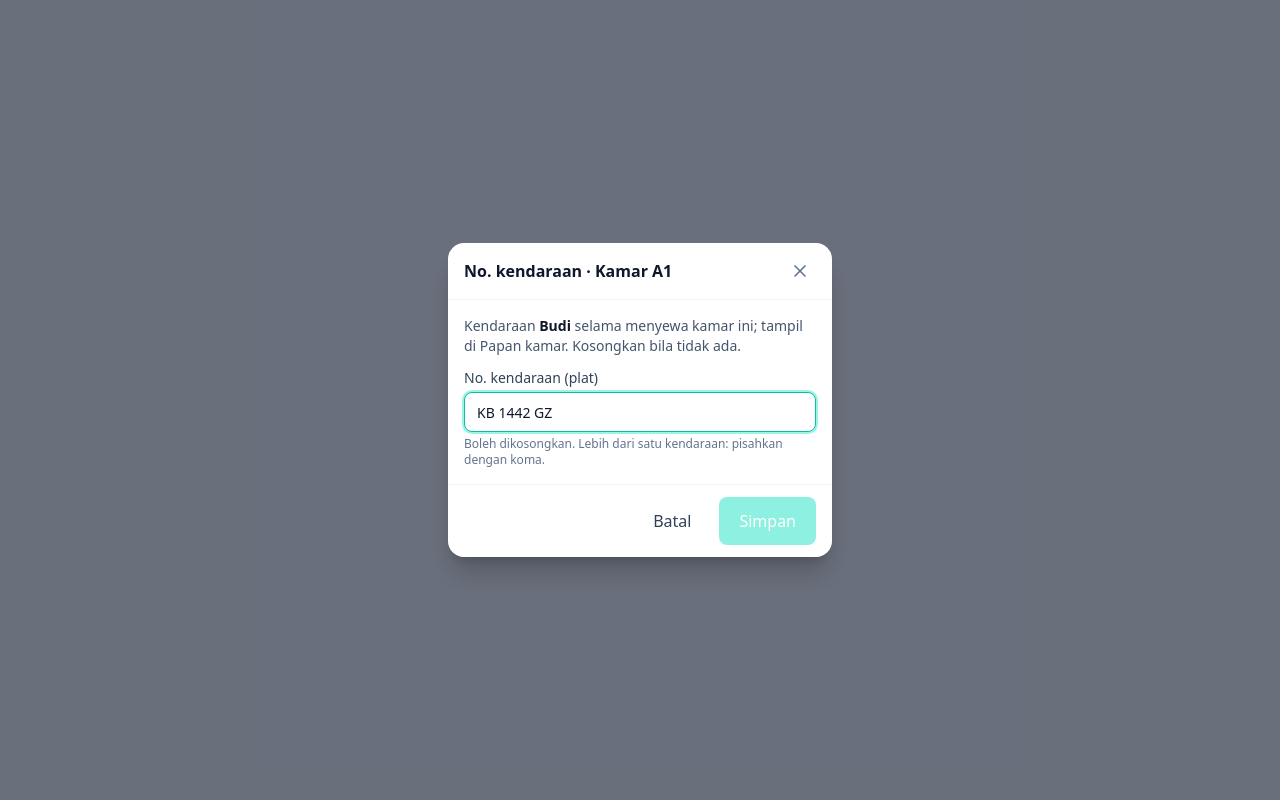
Test: VehiclePlateModal › a stored plate: the same plate typed another way is no change; emptying the field clears it
The image size is (1280, 800).
Replace the text in the field labelled "No. kendaraan (plat)" with "kb.1442.gz" at point(640, 412), box [464, 392, 816, 432]
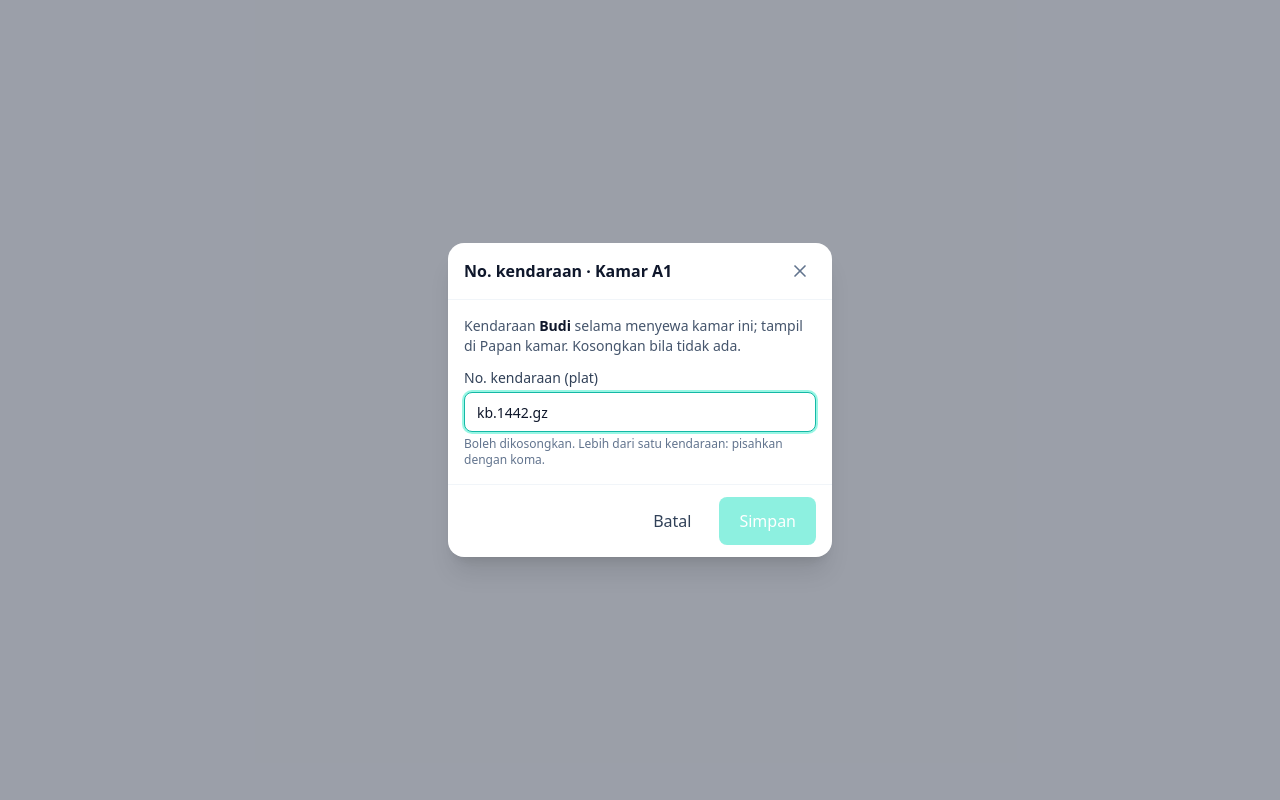
Expected: the 2nd button "Simpan" is disabled, [719, 497, 816, 545]
leaving the field writes it the way it is stored
Leave the field labelled "No. kendaraan (plat)", box [464, 392, 816, 432]
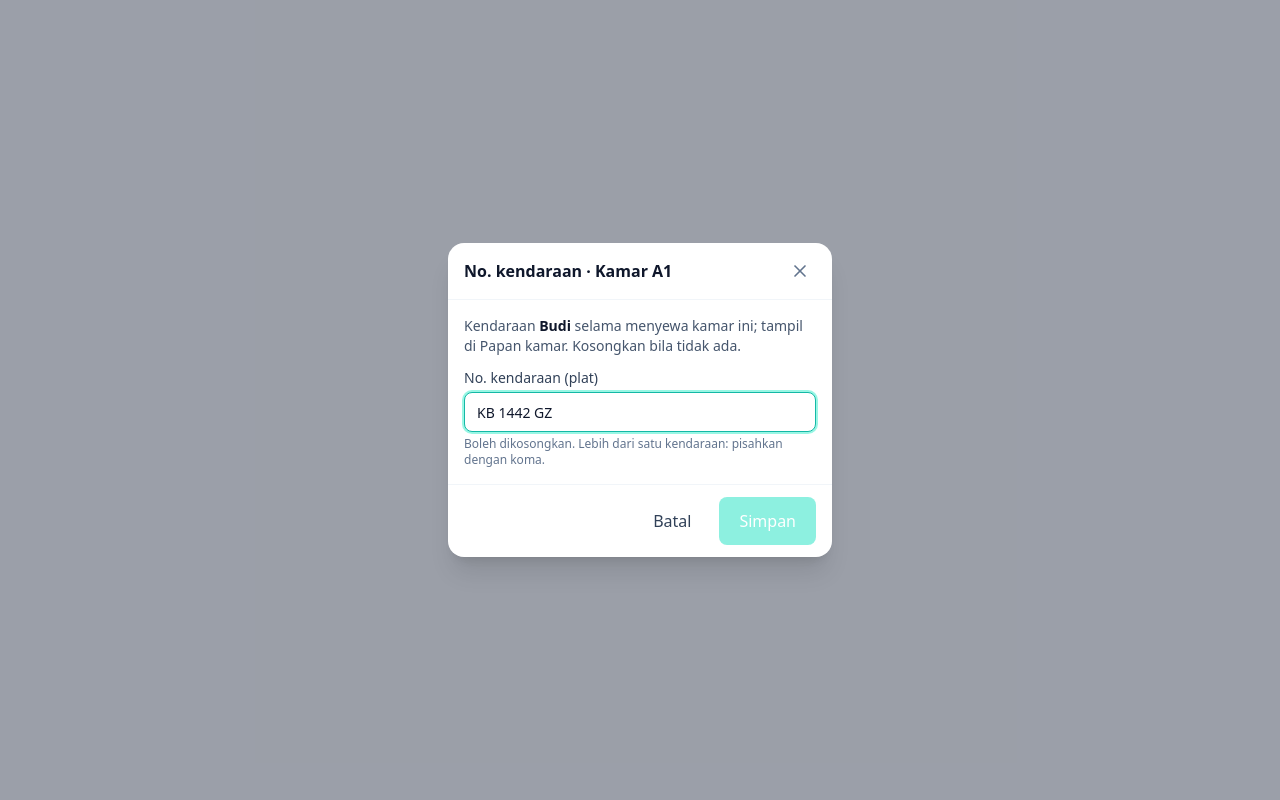
Now the field labelled "No. kendaraan (plat)" holds "KB 1442 GZ"
Clear the field labelled "No. kendaraan (plat)" at point(640, 412), box [464, 392, 816, 432]
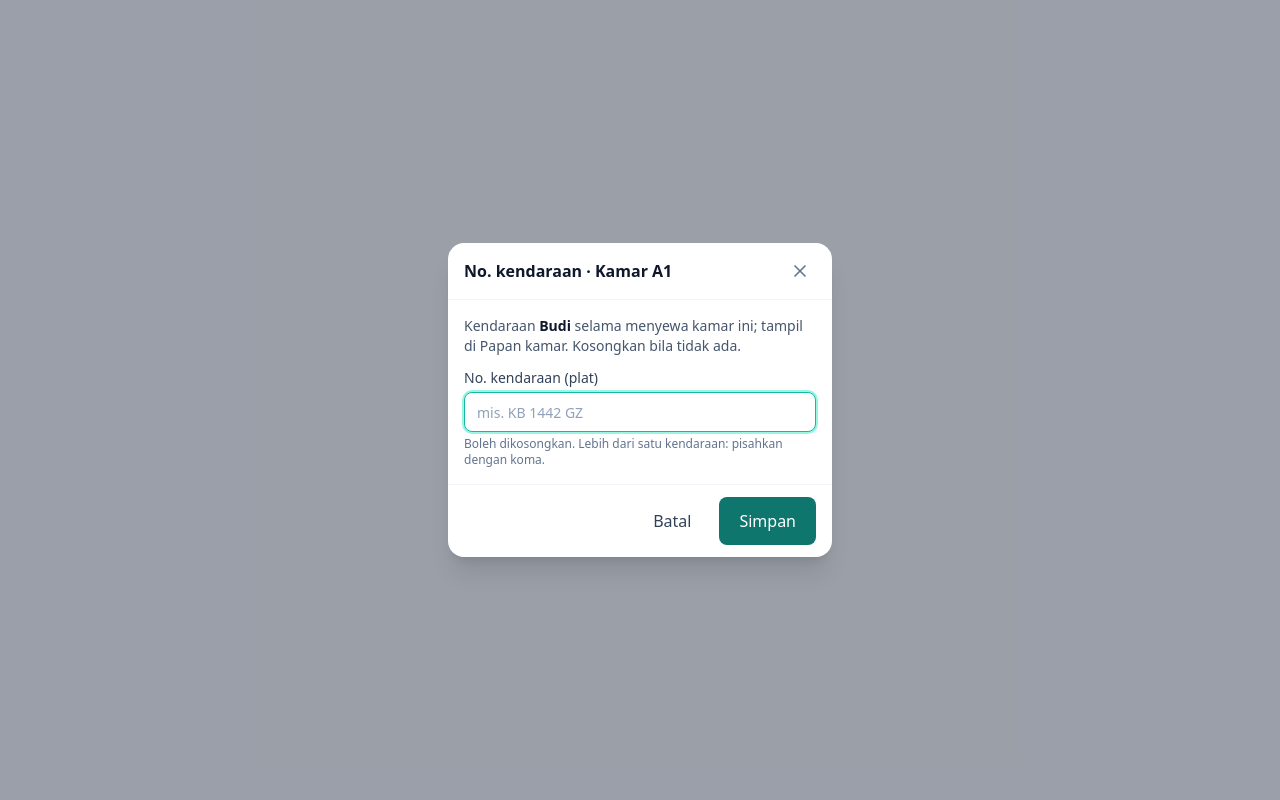
Click the button "Simpan".
click(768, 521)  # box [719, 497, 816, 545]
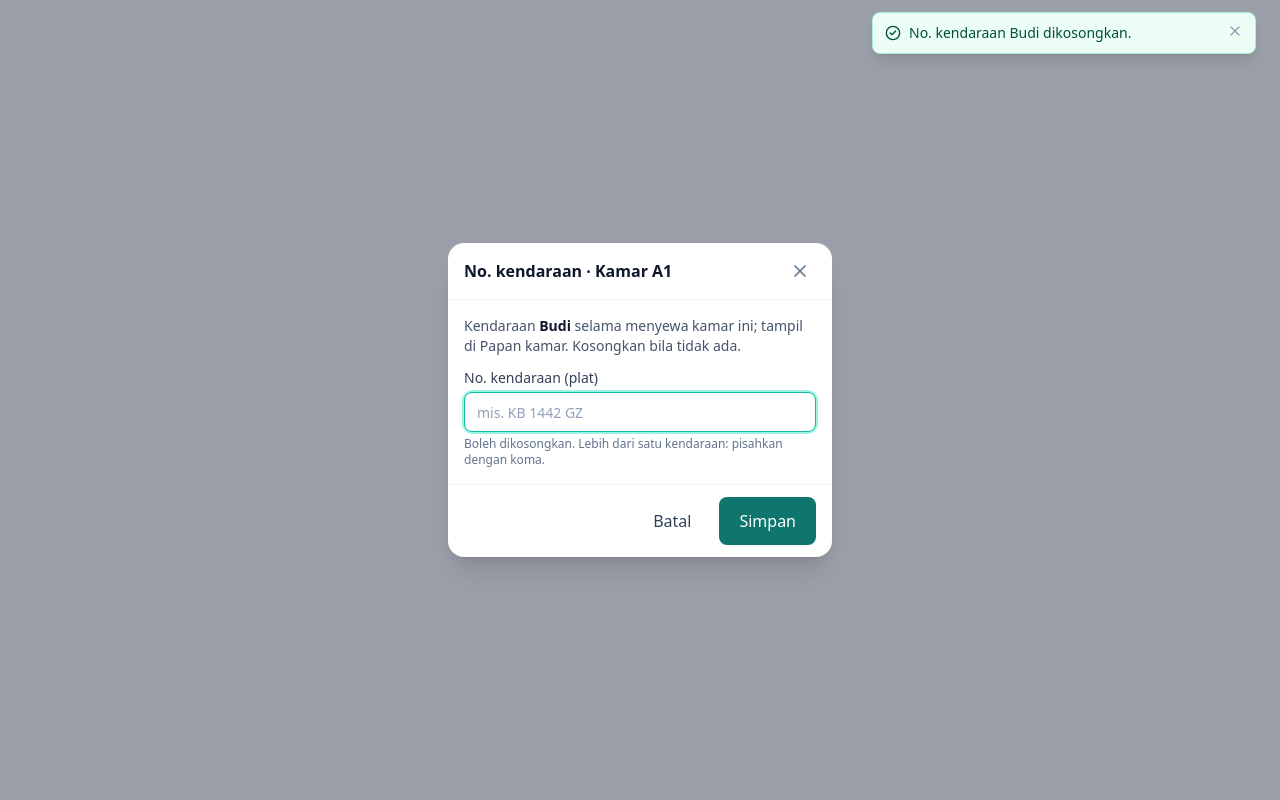
Now the text "No. kendaraan Budi dikosongkan." is shown, box [909, 23, 1132, 42]
